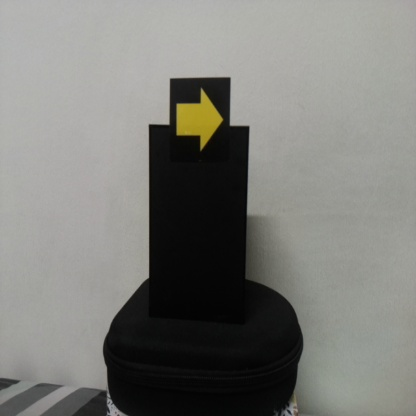id_3: (169, 78, 231, 162)
